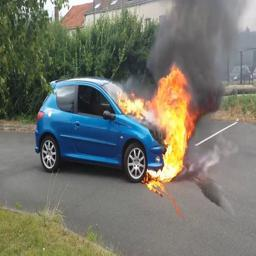fire: (120, 62, 199, 184)
